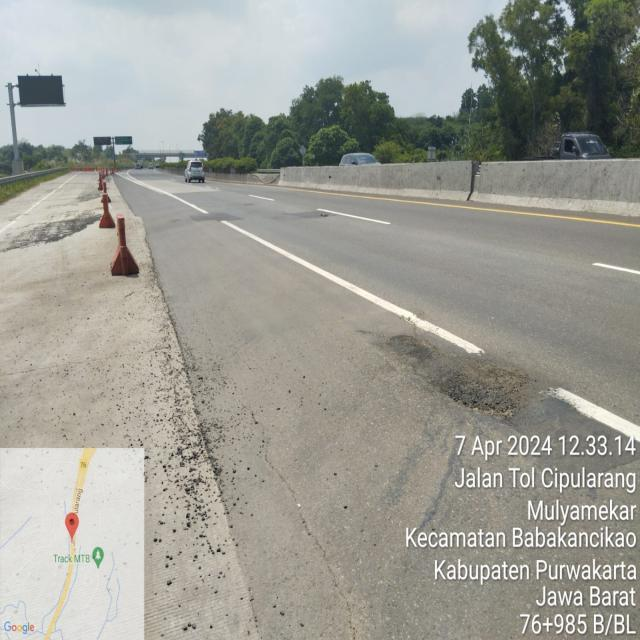Buraco: (382, 333, 533, 423), (318, 211, 331, 219)
